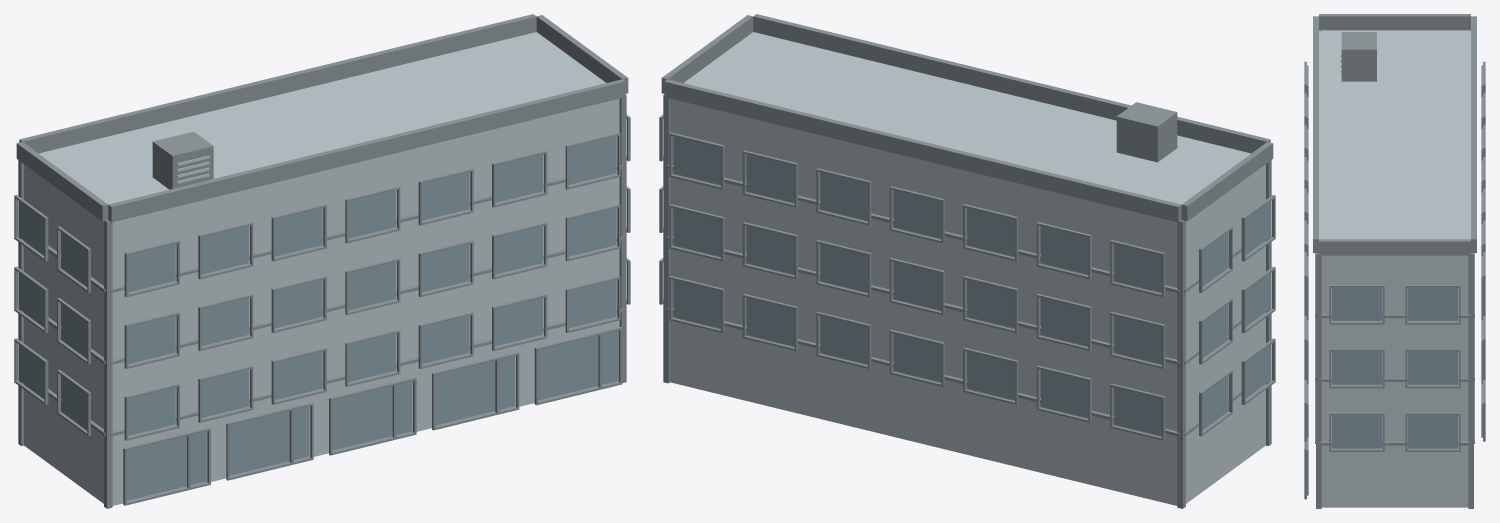
File: lot_3x1_slab.glb
The picture shows the model from 3 angles, left to right: view 1: azimuth 30°, elevation 25°; view 2: azimuth 150°, elevation 25°; view 3: azimuth 270°, elevation 25°; orthographic projection. The views are drawn at different scales.
Parts seen in each view (by area): view 1: lot_3x1_slab; view 2: lot_3x1_slab; view 3: lot_3x1_slab.
Part boxes in pixels (bbox=[...]): lot_3x1_slab: bbox=[14, 14, 630, 508]; lot_3x1_slab: bbox=[659, 14, 1275, 508]; lot_3x1_slab: bbox=[1304, 14, 1485, 508].
Size of the model in its own units: 23.74 by 13.5 by 7.74.
